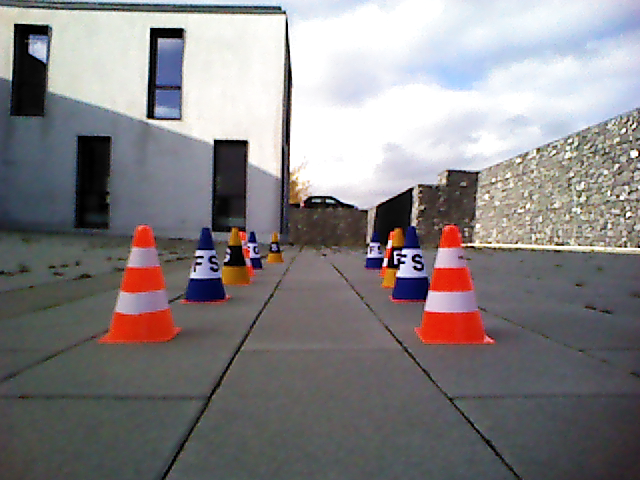bluecone: (186, 228, 226, 303), (395, 227, 431, 300)
orangeconesmall: (110, 223, 177, 338), (422, 225, 484, 340)
yellowcone: (221, 228, 249, 285), (383, 229, 401, 287)
